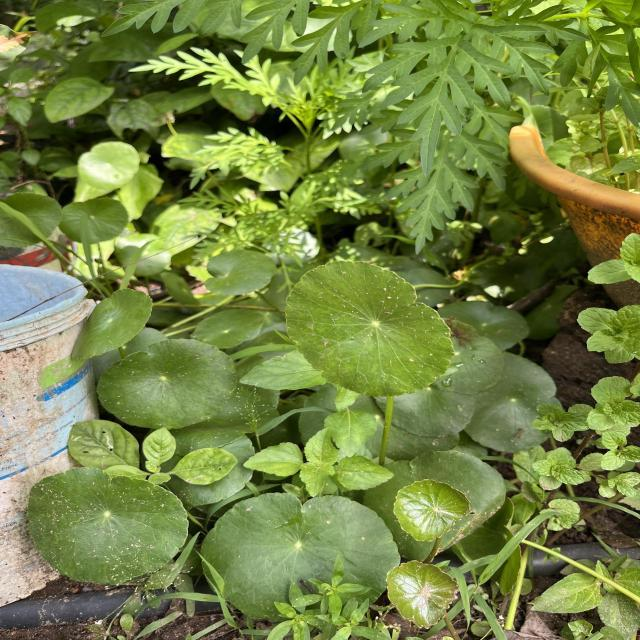Bacopa monnieri: (198, 491, 402, 624), (283, 259, 457, 399), (26, 465, 190, 586), (95, 336, 240, 432), (70, 287, 154, 361), (384, 559, 462, 632), (392, 477, 472, 544)
